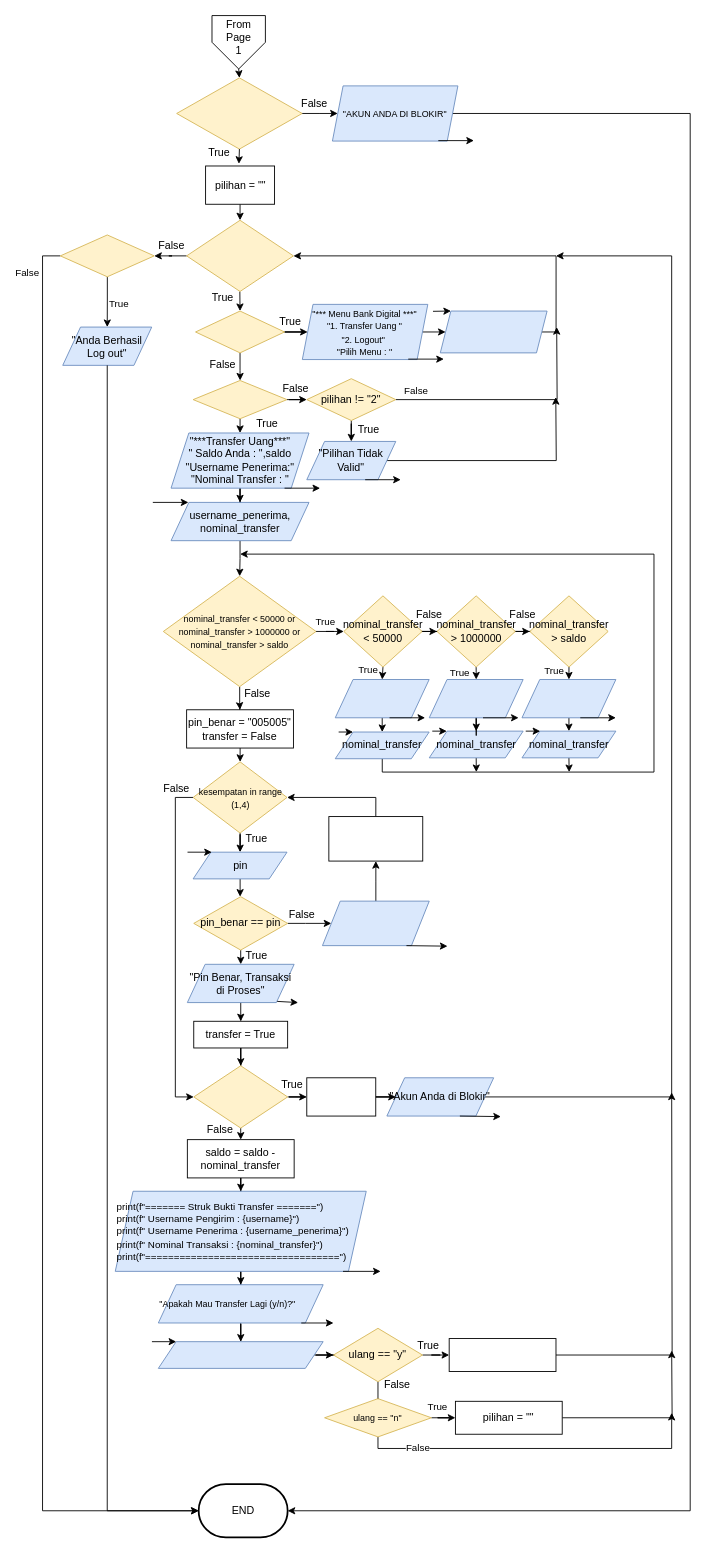
Some shapes in this 714 by 1554 pixel diagram are drawn without their labels. The centre of each missing label's shape, as x and y in pixels:
"Minimal Transfer 50000": point (381, 698)
"Pin Anda Salah, Masukkan Kembali Pin Anda": point (375, 923)
"SALDO ANDA TIDAK CUKUP": point (568, 698)
kesempatan = kesempatan + 1: point (375, 838)
login = False: point (341, 1096)
login == True: point (239, 113)
Maksimal Transfer "1000000": point (475, 698)
pilihan: point (493, 331)
pilihan != "1": point (240, 331)
pilihan !="2" and login == True: point (239, 255)
pilihan = "1": point (502, 1354)
pilihan == "1": point (239, 399)
pilihan == "2": point (106, 255)
transfer == False: point (240, 1096)
ulang: point (240, 1354)
